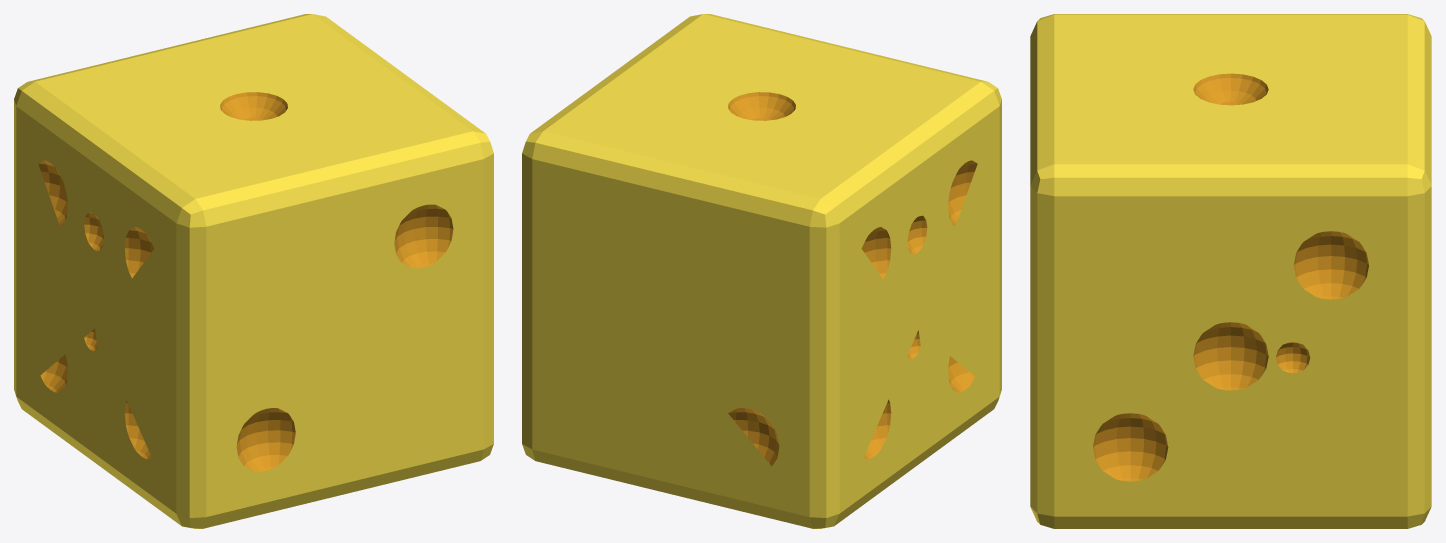
The model's file is Die_Emmental_d6.fbx.
3 renders of one model, left to right at view 1: azimuth 30°, elevation 25°; view 2: azimuth 150°, elevation 25°; view 3: azimuth 270°, elevation 25°, orthographic. The views are drawn at different scales.
Parts seen in each view (by area): view 1: Die_Emmental_d6; view 2: Die_Emmental_d6; view 3: Die_Emmental_d6.
Part boxes in pixels (x1,y1,x2,y2): Die_Emmental_d6: (14,14,493,528); Die_Emmental_d6: (522,14,1001,528); Die_Emmental_d6: (1030,14,1431,528).
Bounding box in the file's own units: 1 × 1 × 1.
